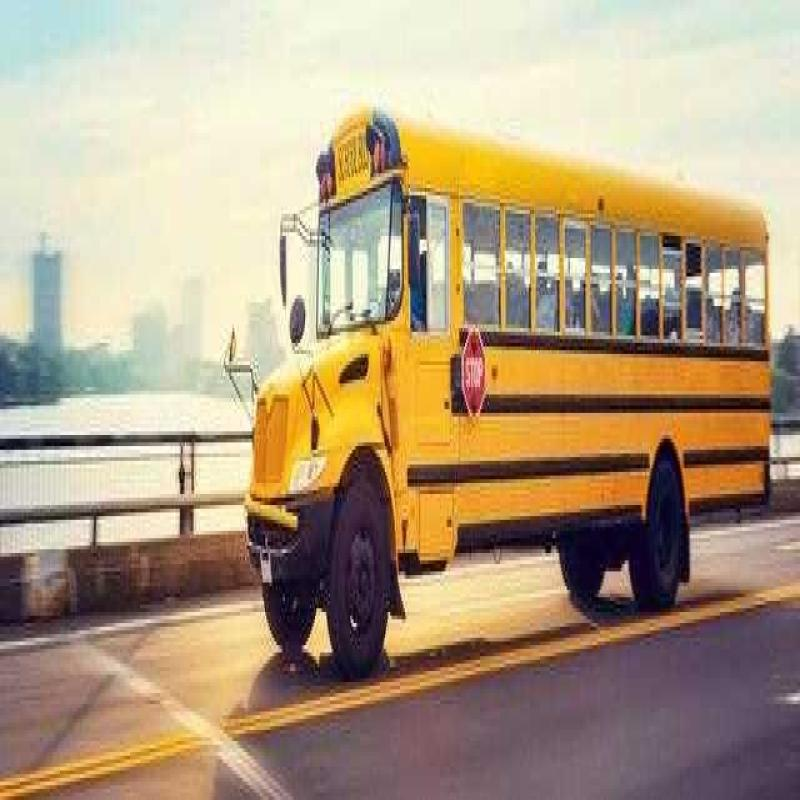bus: (260, 110, 800, 707)
